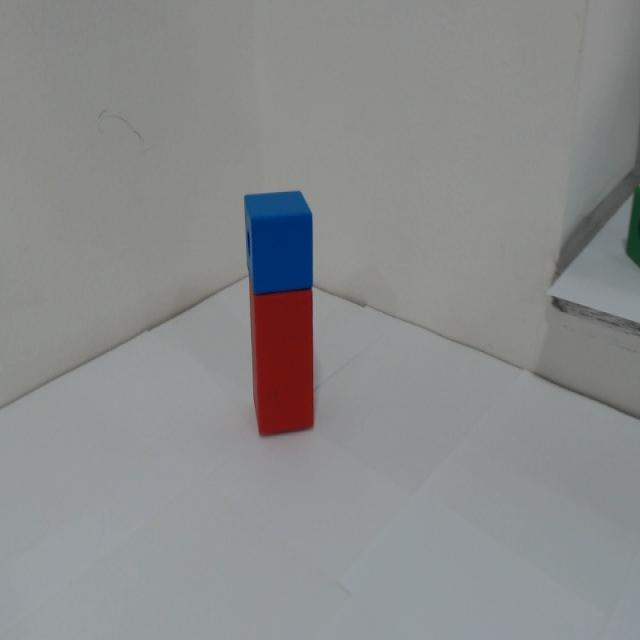cube: (234, 186, 327, 290)
